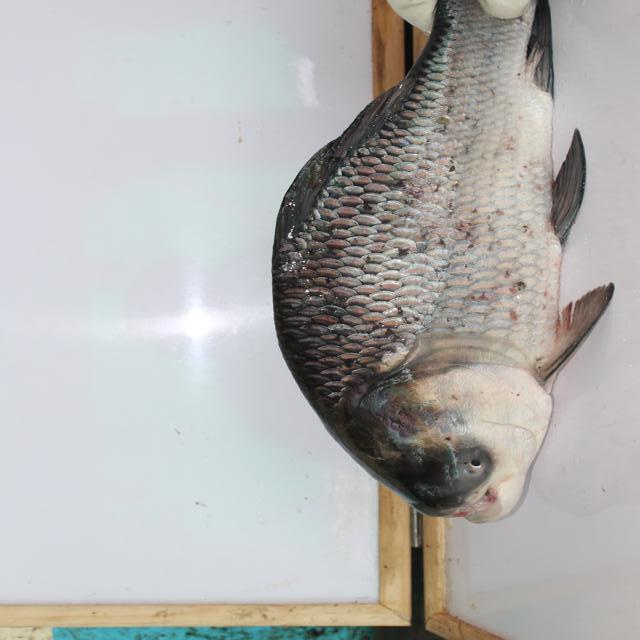Catla: (269, 6, 622, 525)
